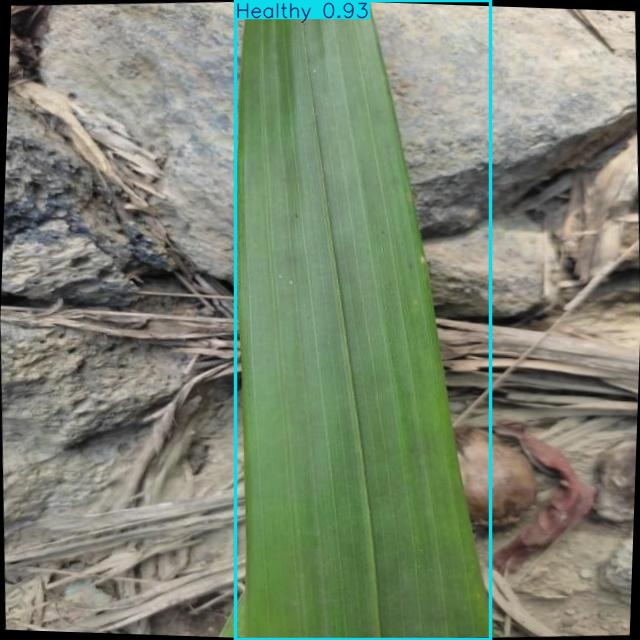Healthy: (236, 0, 491, 640)
